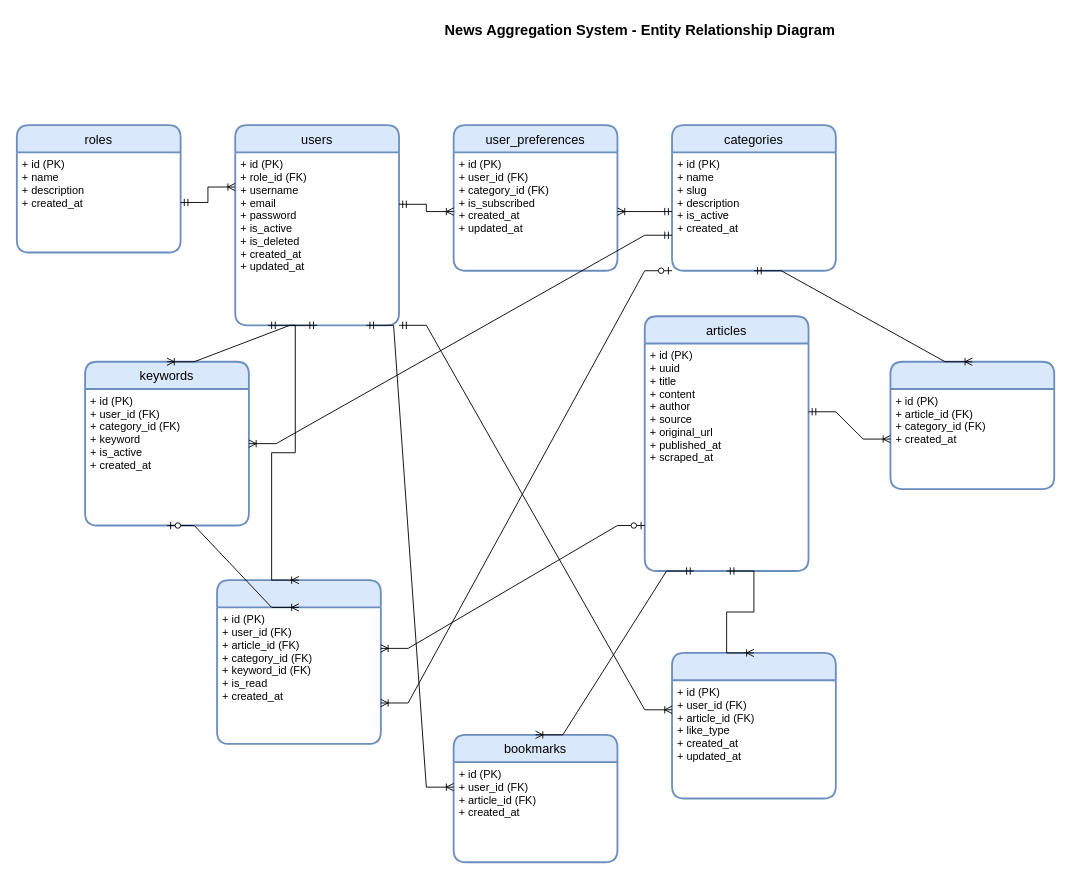
Some shapes in this 1070 by 878 pixel diagram are drawn without their labels. The box of each missing label's shape, as (x1, y1, x2, y2) in pixels:
article_categories: (889, 360, 1055, 490)
likes: (671, 652, 836, 799)
notifications: (216, 579, 381, 744)
